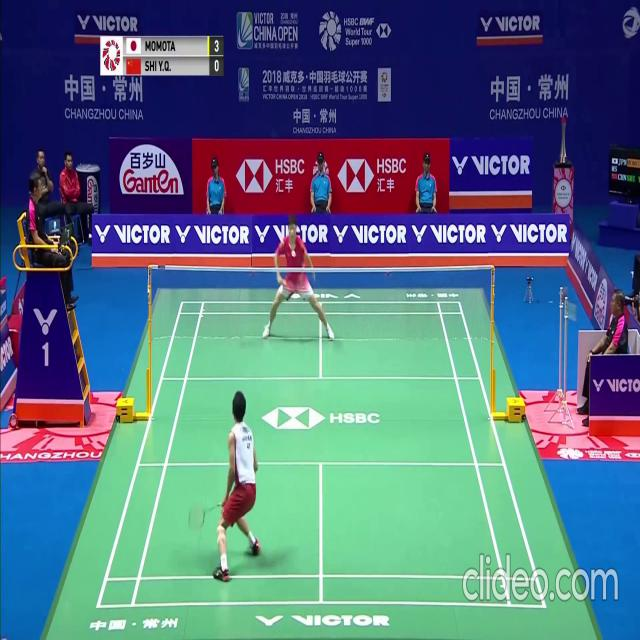Shuttlecock: (291, 250, 296, 257)
